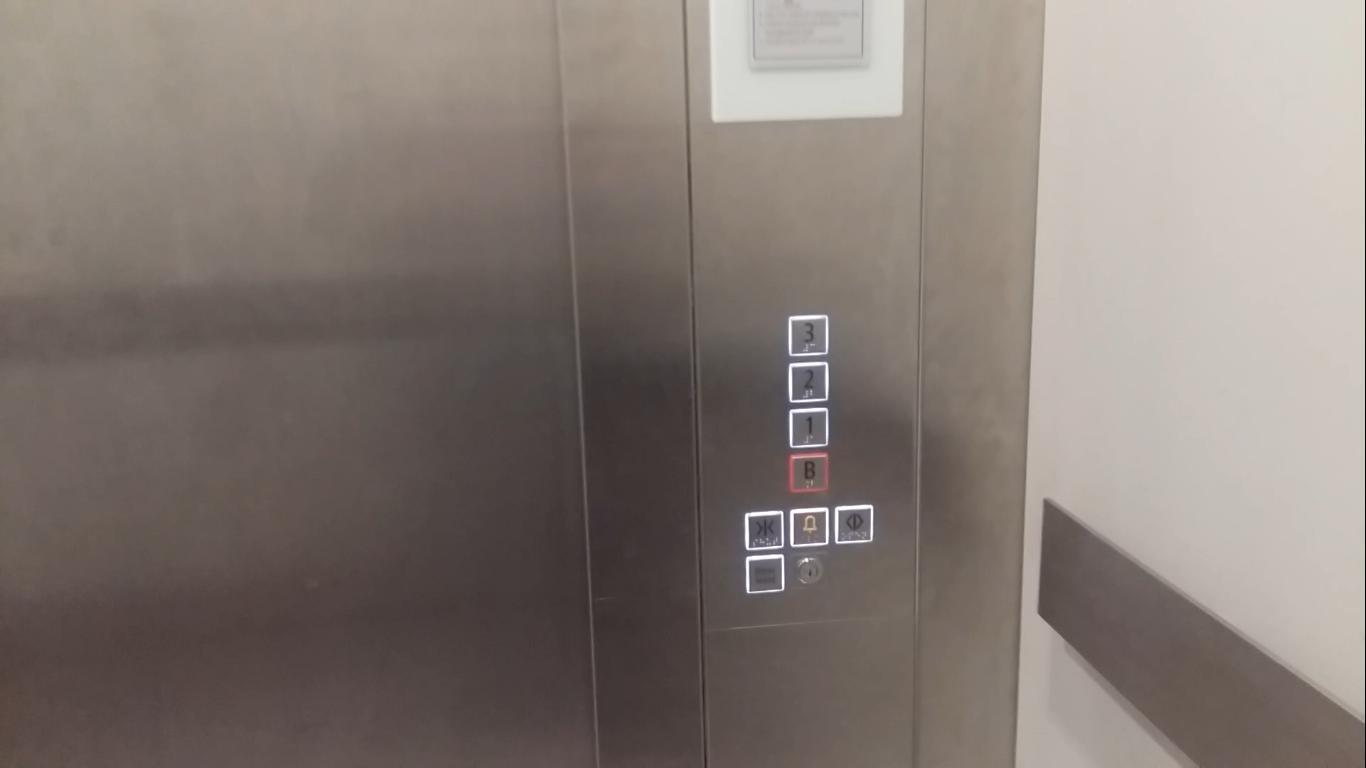1: (787, 406, 831, 448)
2: (786, 359, 831, 407)
3: (785, 312, 831, 359)
B: (786, 451, 831, 492)
alarm: (788, 503, 831, 550)
close: (743, 508, 787, 552)
keyhole: (795, 556, 824, 586)
open: (833, 502, 876, 546)
text_blur: (742, 551, 786, 595)
